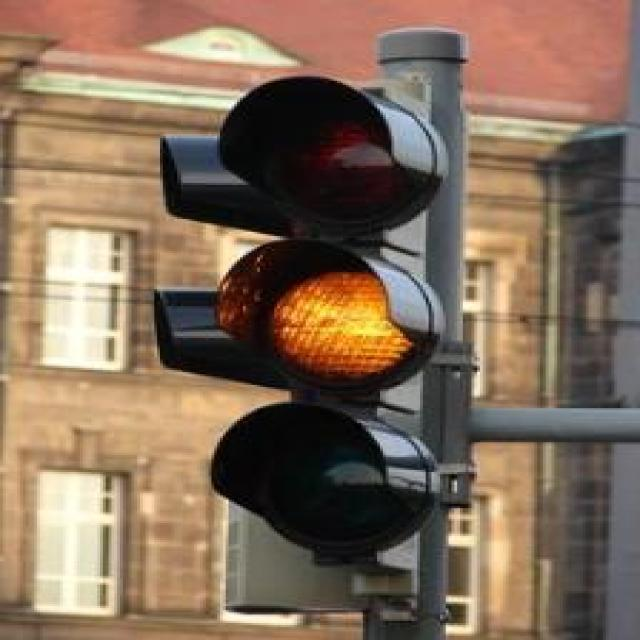yellow_light: (213, 77, 448, 557)
